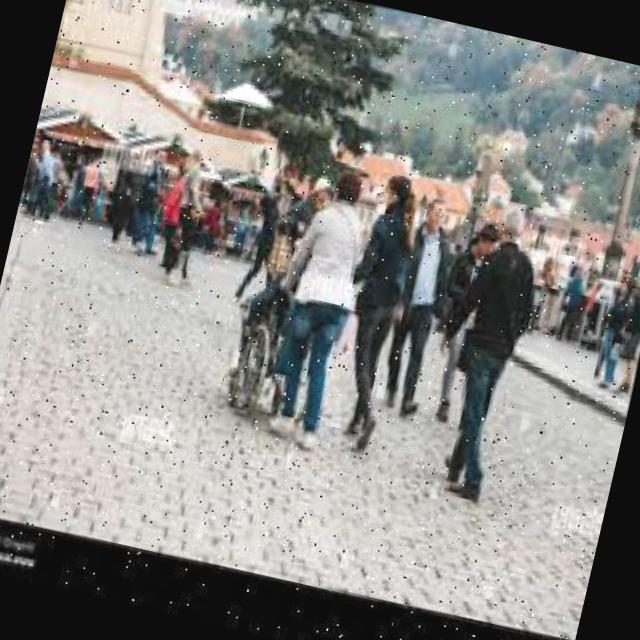Person: (406, 198, 557, 502), (240, 158, 384, 454), (312, 163, 434, 454), (370, 195, 468, 422), (215, 256, 338, 432), (414, 214, 503, 423)
